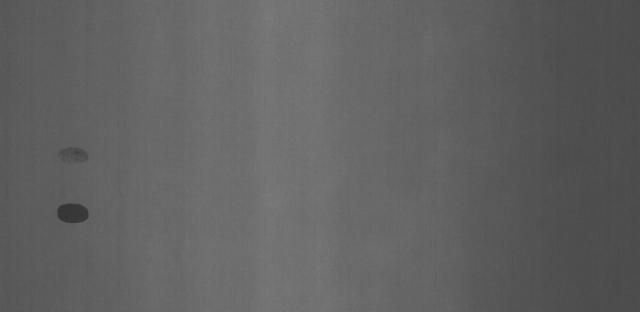oil_spot: (54, 202, 94, 226), (56, 145, 88, 167)
